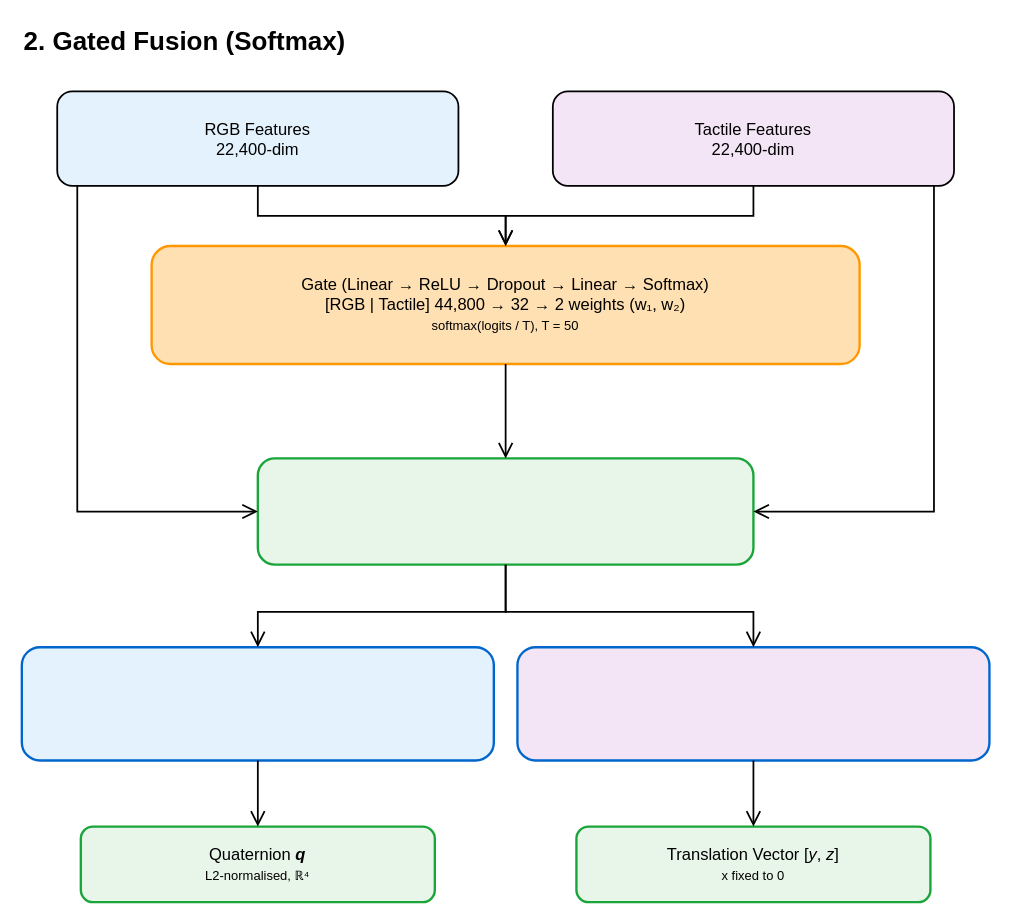
This 1010x923 diagram has some shape labels left out. The box of each missing label's shape, as (x1, y1, x2, y2) in pixels:
Fused Features w₁·RGB + w₂·Tactile 22,400-dim: (256, 457, 754, 565)
Rotation Head (MLP) 22,400 → 256 → 1024 → 4 GELU · Dropout 0.1: (20, 645, 494, 761)
Translation Head (MLP) 22,400 → 1024 → 1024 → 16 → 2 GELU · Dropout 0.1: (516, 645, 990, 761)
